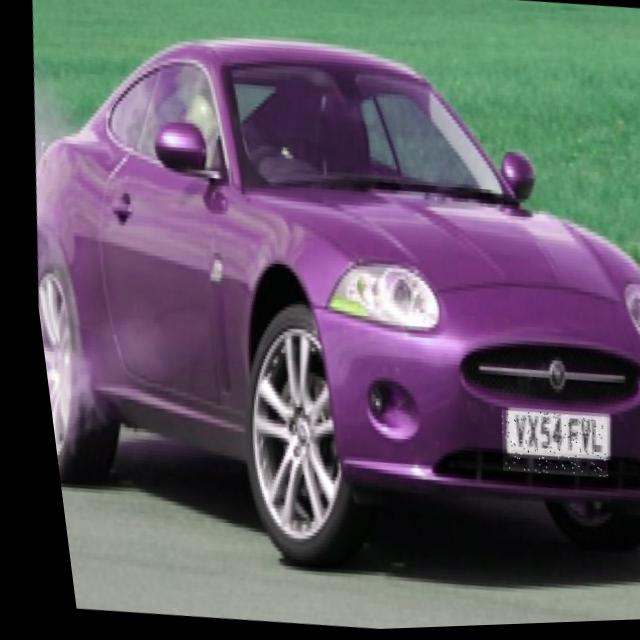license_plate: (483, 410, 600, 484)
